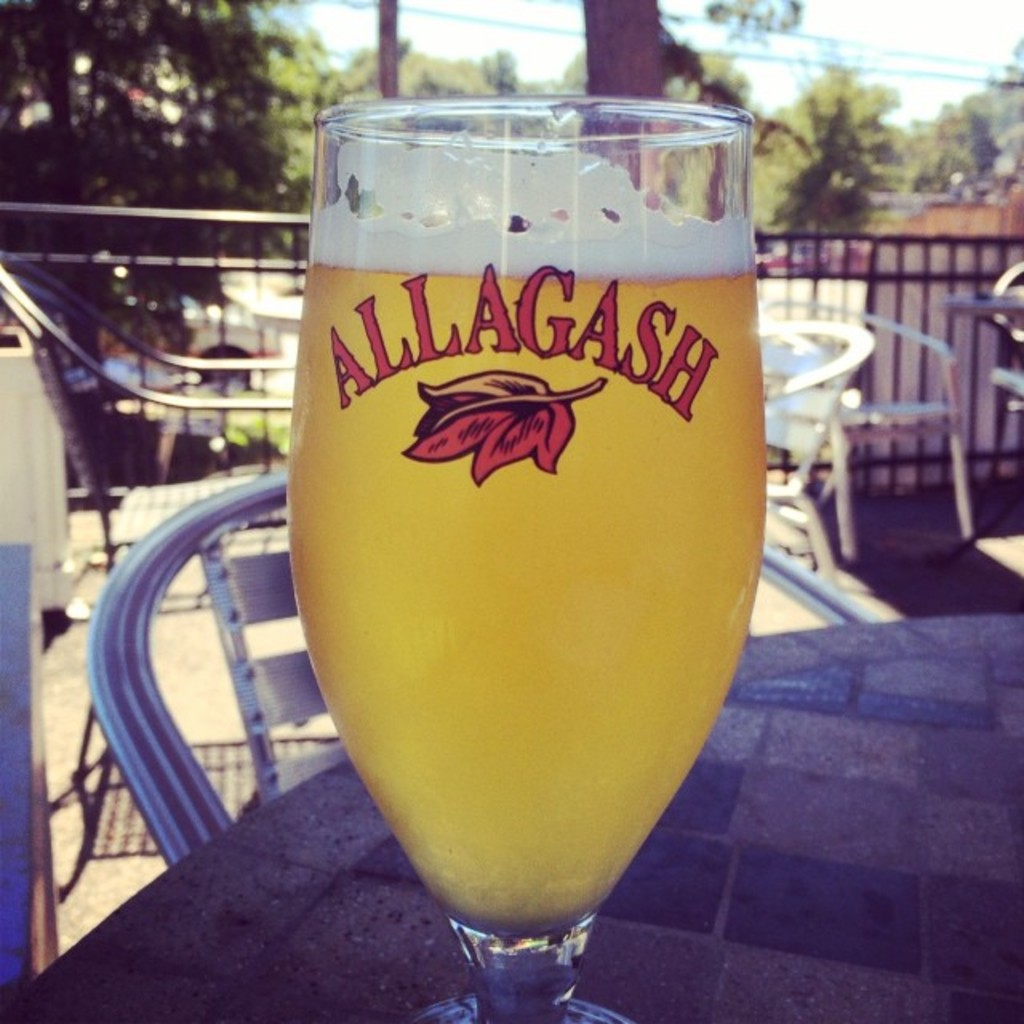Beer: (288, 153, 764, 947)
